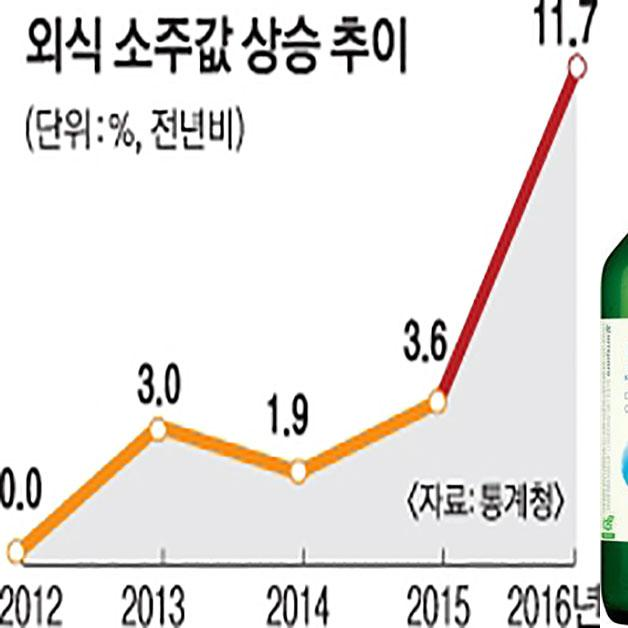soju: (595, 225, 628, 626)
